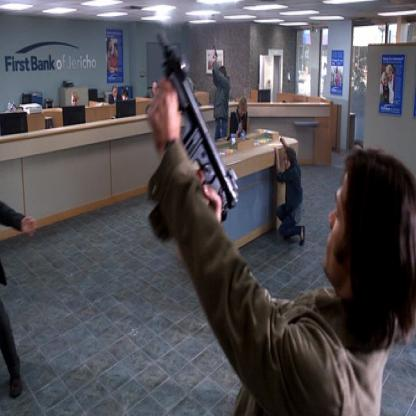Gun: (147, 24, 238, 248)
